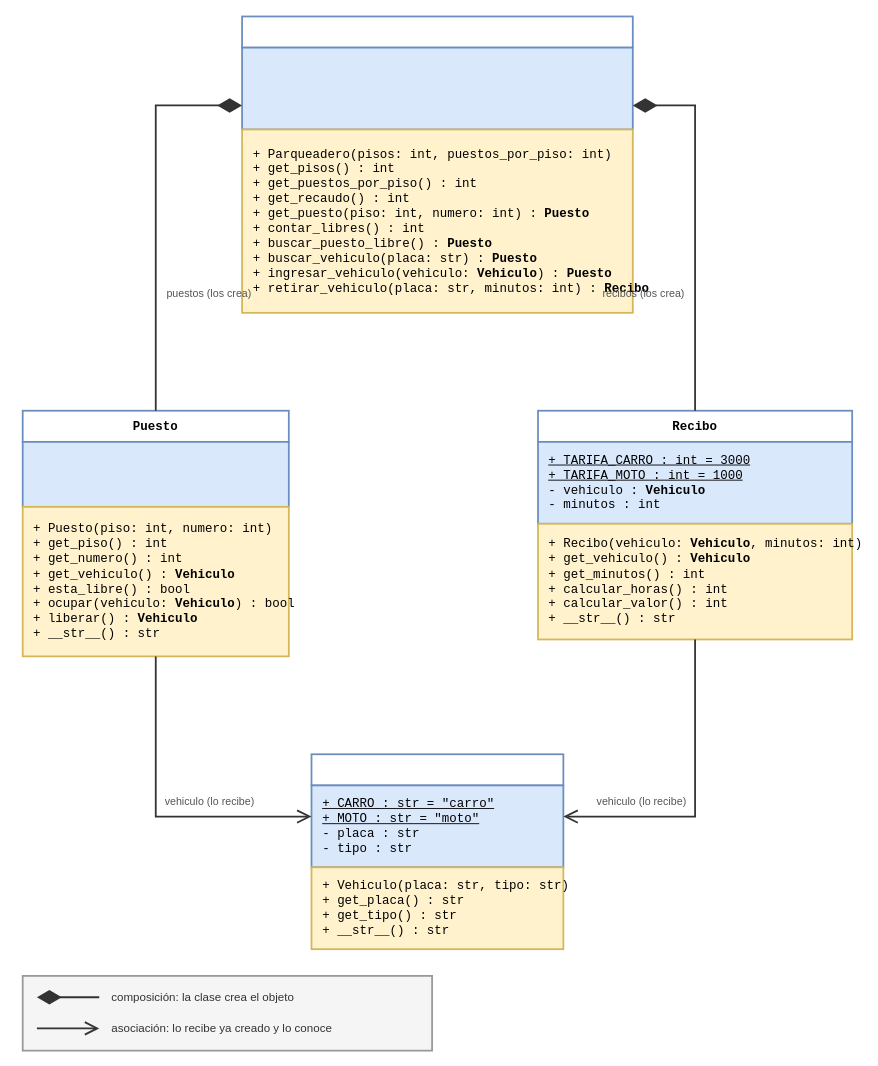
Some shapes in this 878 by 1066 pixel diagram are drawn without their labels. Here are the shapes that lost their labels. From the top down, the centre of each, then its label:
At point (437, 31): "Parqueadero".
At point (437, 88): "- pisos : int - puestos_por_piso : int - recaudo : int - puestos : Puesto [*][*]".
At point (155, 474): "- piso : int - numero : int - vehiculo : Vehiculo".
At point (437, 769): "Vehiculo".
